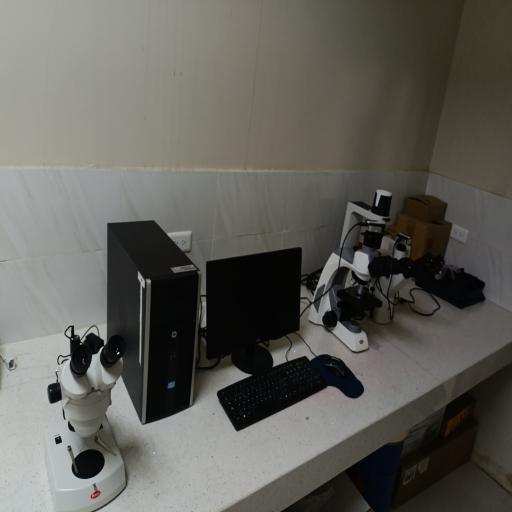Microscopio_estereo: (32, 322, 147, 512)
